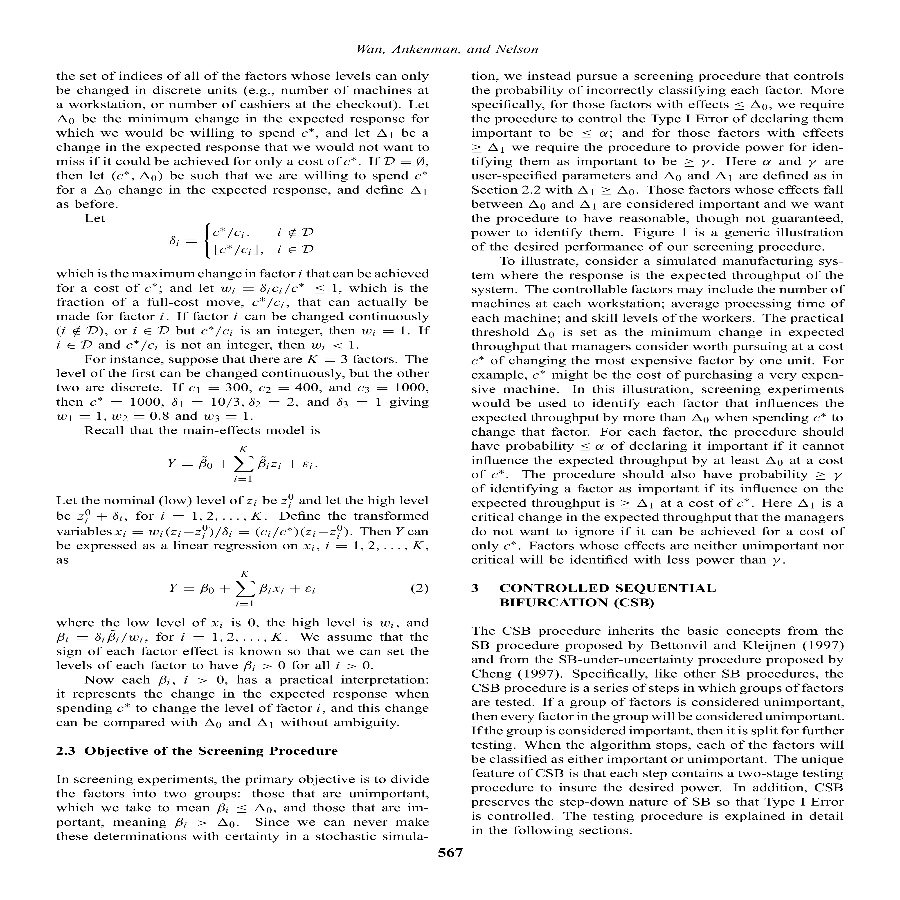eq: (166, 443, 321, 485), (167, 567, 318, 608), (164, 221, 321, 260)
